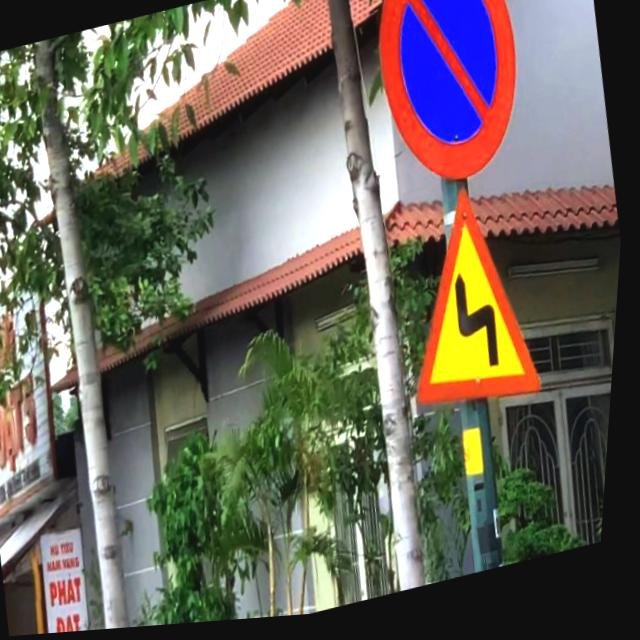Cam do xe: (348, 0, 547, 207)
Nhieu cho ngoat lien tiep ben trai: (373, 169, 570, 444)
